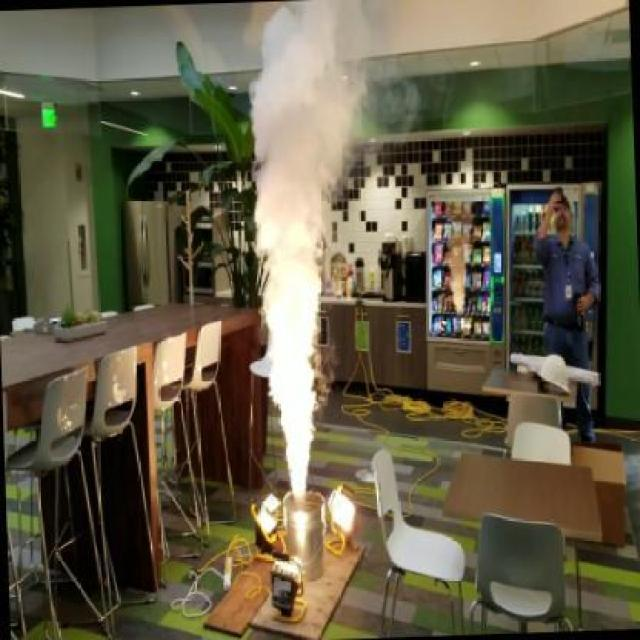fire: (243, 0, 374, 491)
